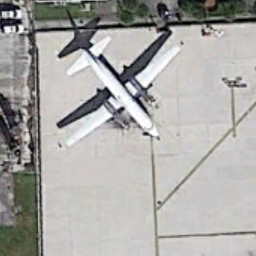Airplane: (52, 28, 186, 165)
